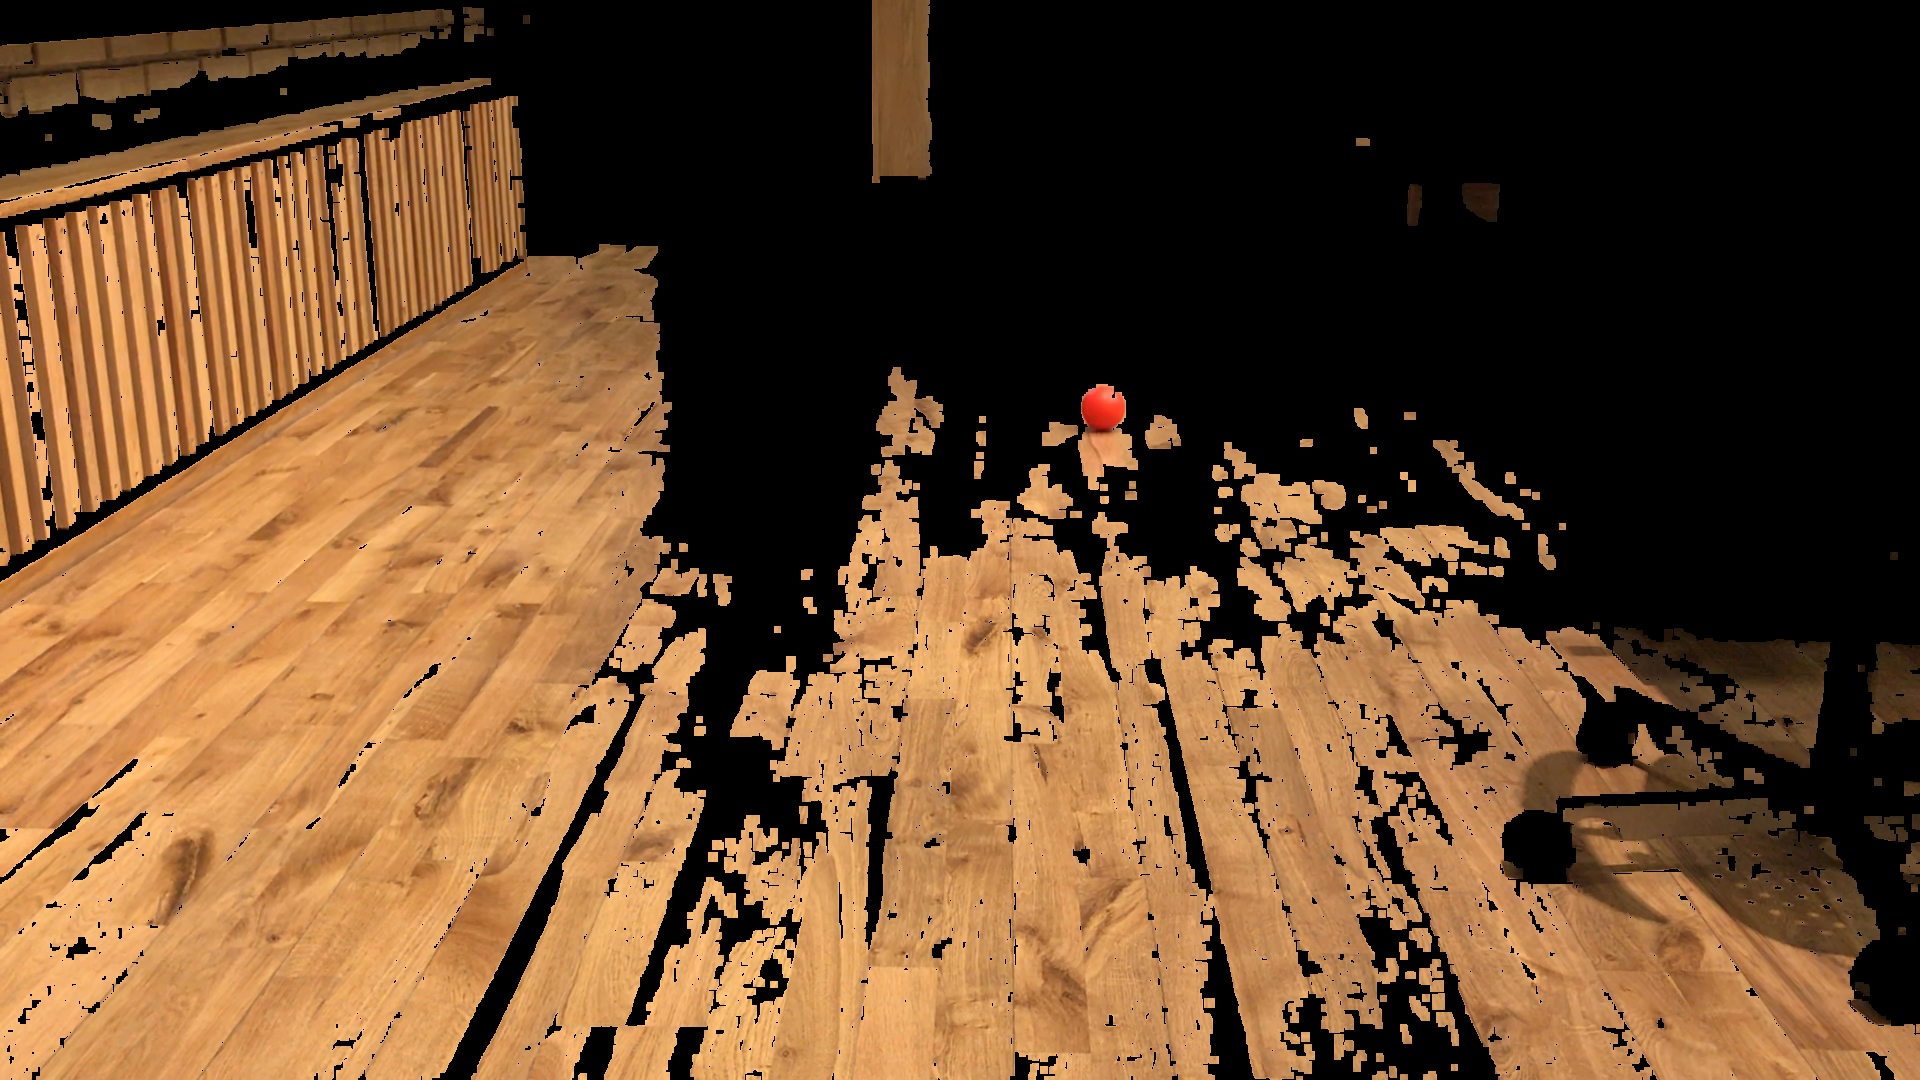Ball: (1080, 380, 1127, 426)
